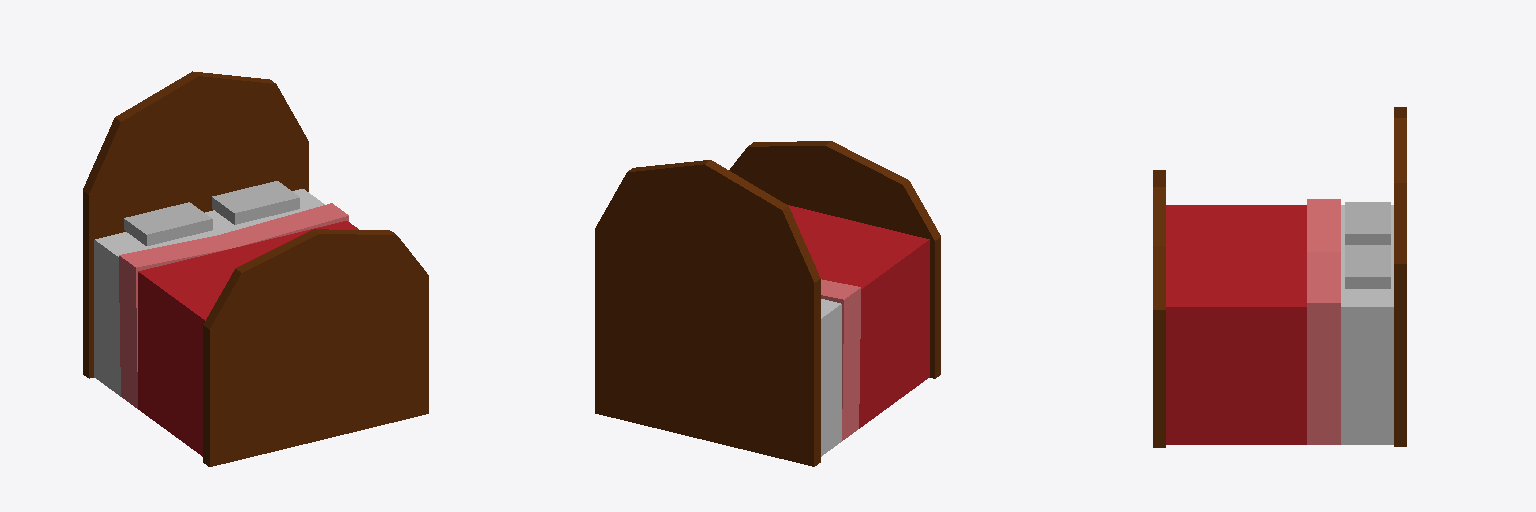
File: doublebed1.obj
3 renders of one model, left to right at view 1: azimuth 30°, elevation 25°; view 2: azimuth 150°, elevation 25°; view 3: azimuth 270°, elevation 25°, orthographic.
Visible parts, largest first — view 1: Object.2, Object.1, Object.3, Object.4; view 2: Object.1, Object.2; view 3: Object.2, Object.1, Object.4, Object.3.
Boxes of the visible parts, box(x1,y1,x2,y2) form: Object.2: box(94, 189, 428, 466); Object.1: box(83, 71, 308, 378); Object.3: box(124, 202, 212, 245); Object.4: box(212, 181, 299, 224); Object.1: box(595, 160, 820, 466); Object.2: box(729, 141, 940, 456); Object.2: box(1153, 170, 1393, 447); Object.1: box(1394, 107, 1406, 446); Object.4: box(1345, 245, 1390, 288); Object.3: box(1345, 202, 1390, 244).
Size of the model in its own units: 1 by 1.2 by 1.